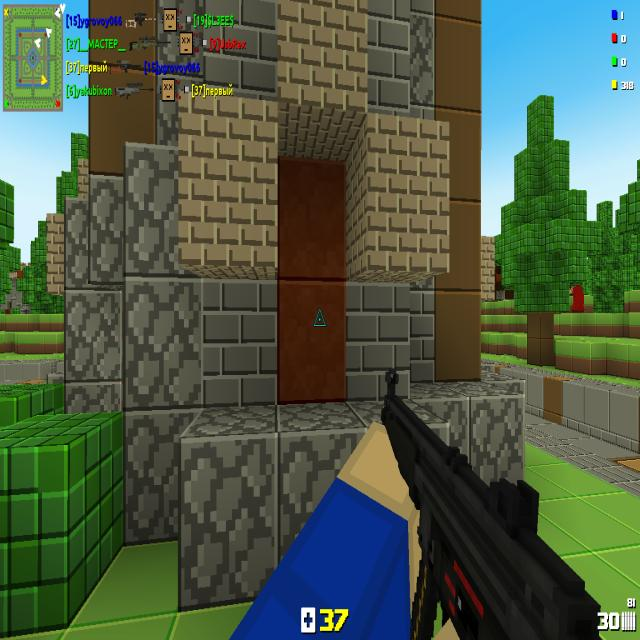enemy: (569, 285, 585, 313)
